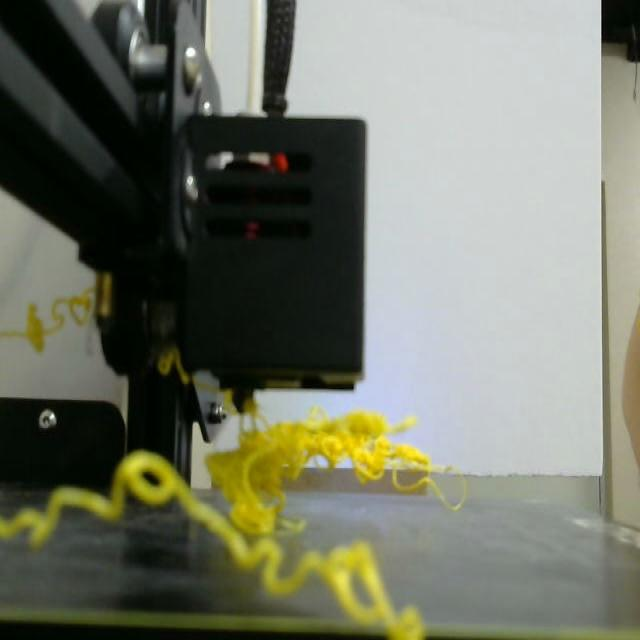spaghetti: (206, 408, 464, 536)
